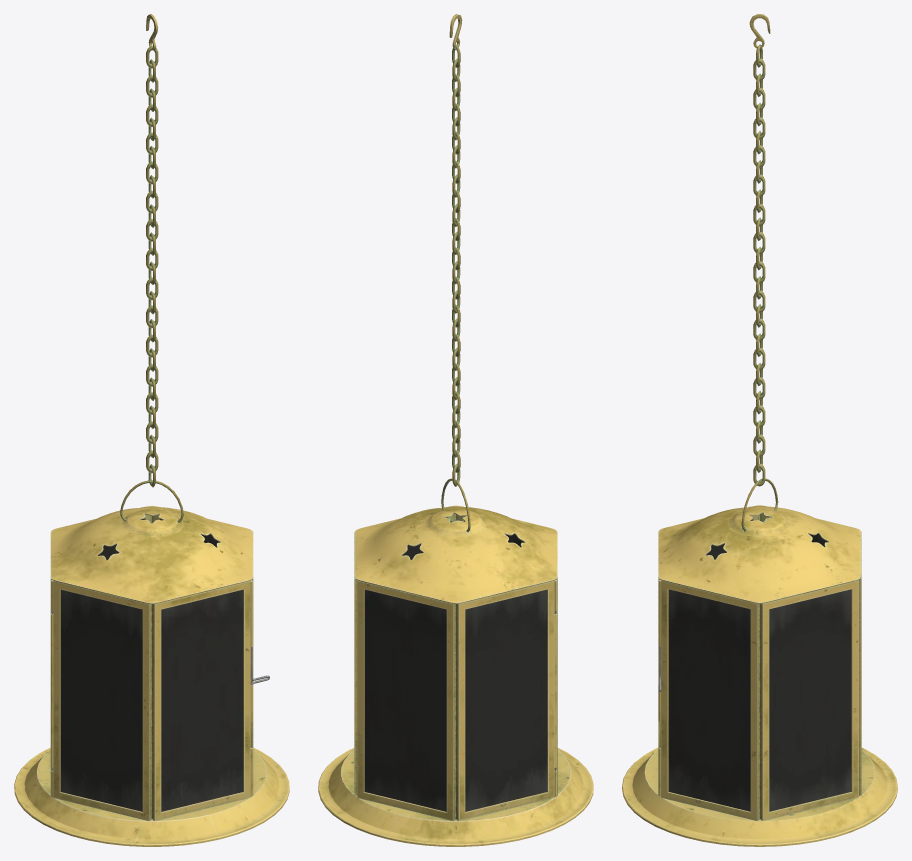
Rendered from lantern_diya.glb.
3 views of the same model, side by side, from view 1: azimuth 30°, elevation 25°; view 2: azimuth 150°, elevation 25°; view 3: azimuth 270°, elevation 25° (orthographic).
Parts seen in each view (by area): view 1: brass_diya_lantern, brass_diya_lantern_connection; view 2: brass_diya_lantern, brass_diya_lantern_connection; view 3: brass_diya_lantern, brass_diya_lantern_connection.
Boxes of the visible parts, bbox=[...] form: brass_diya_lantern: bbox=[14, 505, 289, 846]; brass_diya_lantern_connection: bbox=[120, 14, 183, 522]; brass_diya_lantern: bbox=[318, 505, 593, 846]; brass_diya_lantern_connection: bbox=[441, 14, 470, 532]; brass_diya_lantern: bbox=[622, 505, 897, 846]; brass_diya_lantern_connection: bbox=[741, 14, 778, 531].
Bounding box in the file's own units: 0.123 × 0.3807 × 0.123.
3 materials, 3 textured.
